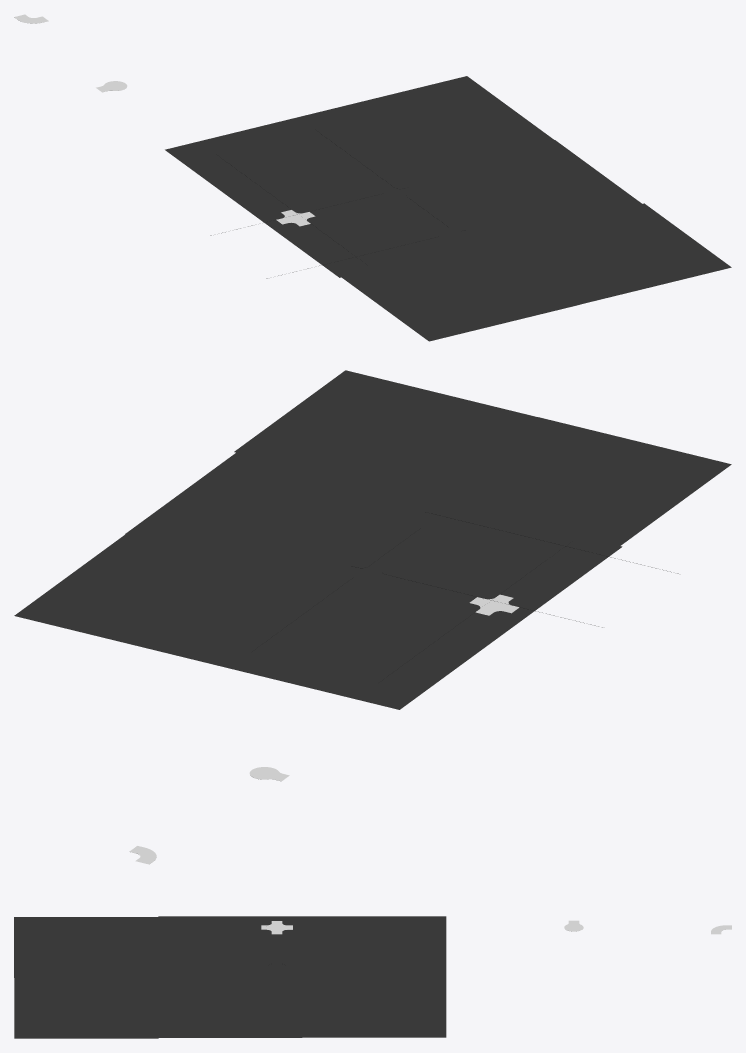
Rendered from roads.fbx.
The picture shows the model from 3 angles, top to bottom: view 1: azimuth 30°, elevation 25°; view 2: azimuth 150°, elevation 25°; view 3: azimuth 270°, elevation 25°; orthographic projection. The views are drawn at different scales.
Parts seen in each view (by area): view 1: Plane.028, Plane.024, Plane.025, Plane.026, Plane.030, Plane.014; view 2: Plane.030, Plane.024, Plane.026, Plane.025, Plane.028, Plane.014; view 3: Plane.030, Plane.026, Plane.024, Plane.028, Plane.025, Plane.014, Plane.002.
Part boxes in pixels (<box>): Plane.028: <box>165,113,403,213</box>; Plane.024: <box>342,240,580,341</box>; Plane.025: <box>404,140,641,240</box>; Plane.026: <box>493,203,731,304</box>; Plane.030: <box>316,76,554,176</box>; Plane.014: <box>252,177,490,277</box>; Plane.030: <box>14,534,318,662</box>; Plane.024: <box>427,417,731,545</box>; Plane.026: <box>234,370,537,498</box>; Plane.025: <box>125,452,428,580</box>; Plane.028: <box>208,581,510,709</box>; Plane.014: <box>318,499,622,627</box>; Plane.030: <box>302,976,446,1037</box>; Plane.026: <box>14,977,158,1038</box>; Plane.024: <box>14,917,158,977</box>; Plane.028: <box>302,916,446,976</box>; Plane.025: <box>158,977,301,1037</box>; Plane.014: <box>158,916,301,976</box>; Plane.002: <box>261,921,292,934</box>.
Bounding box in the file's own units: 32616 × 24.53 × 68138.
